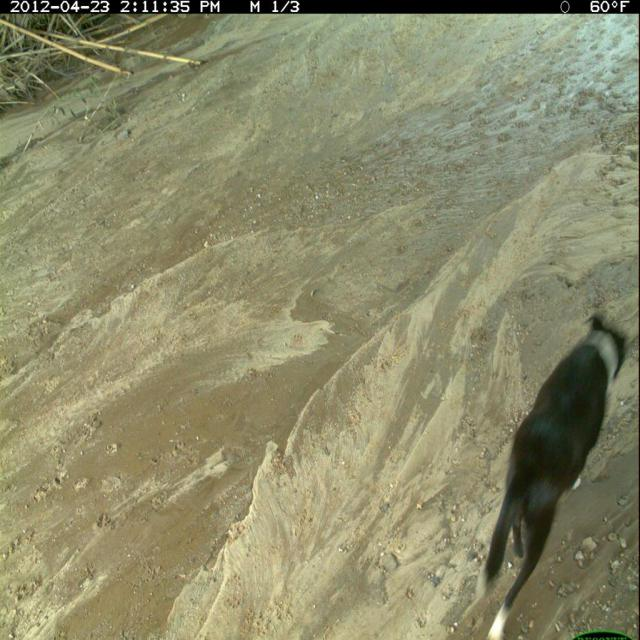dog: (469, 307, 631, 640)
